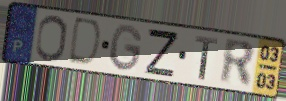D: (65, 15, 103, 69)
G: (108, 23, 145, 74)
O: (33, 14, 69, 64)
R: (219, 36, 257, 89)
T: (194, 34, 219, 82)
Z: (144, 27, 180, 80)
